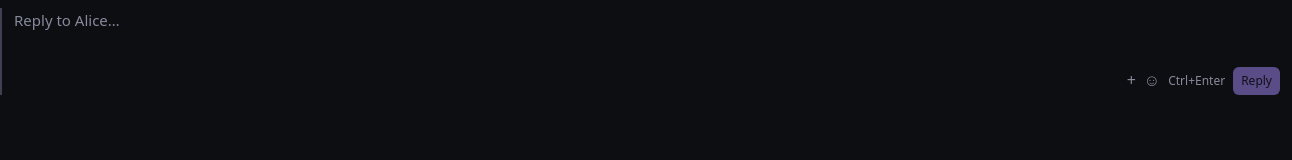
Test case: InlineReplyBox: a reply that did not go out › says why in plain language, and keeps what was written
Type "my reply" into the text box with placeholder "Reply to Alice…".
click(647, 32); type("my reply")  # box [14,8,1280,57]
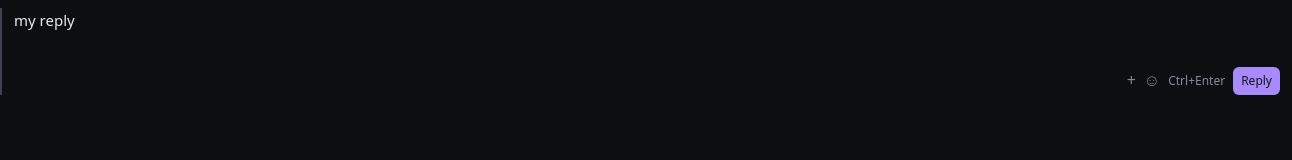
Click the button "Reply".
click(1257, 81)  # box [1233,67,1280,95]
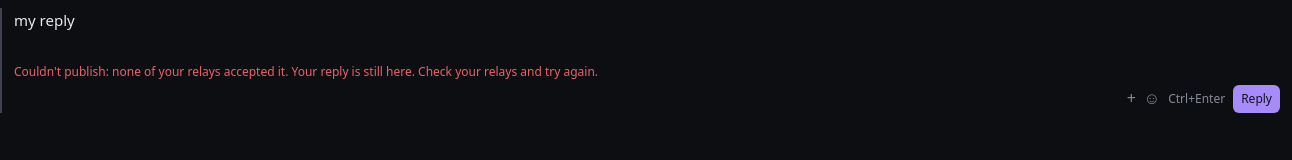
expect the text "none of your relays accepted it" shows "Your reply is still here.": met, box [14,63,598,80]
